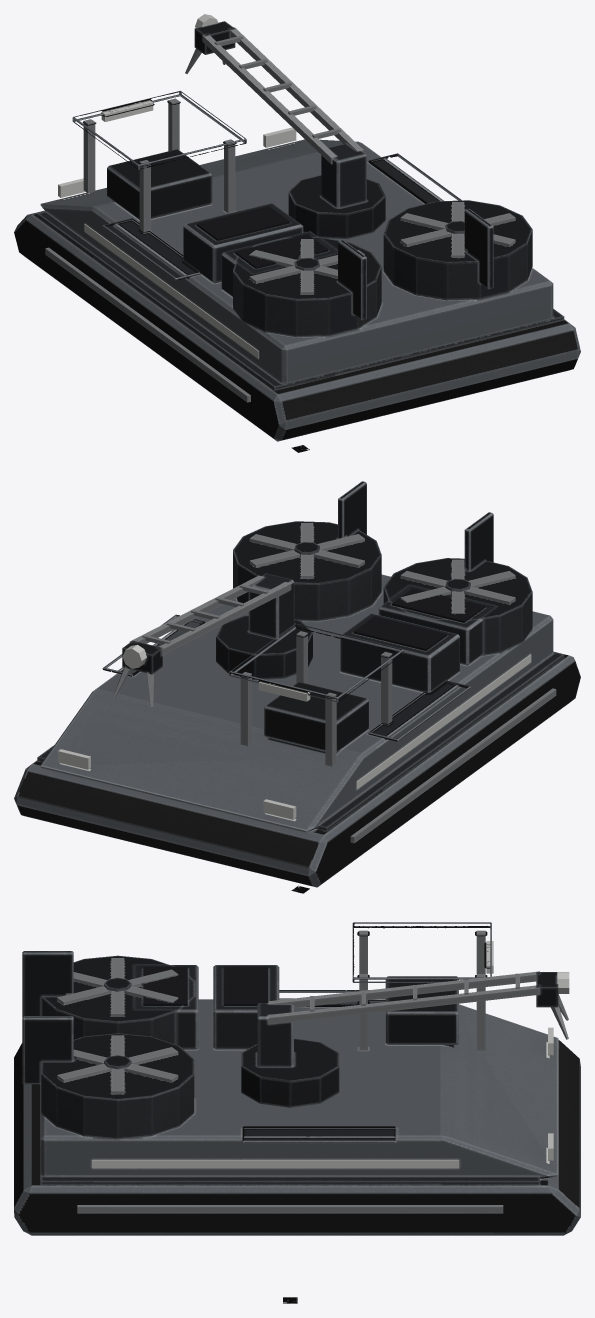
The model's file is chs_drifter.fbx.
3 renders of one model, top to bottom at view 1: azimuth 30°, elevation 25°; view 2: azimuth 150°, elevation 25°; view 3: azimuth 270°, elevation 25°, orthographic. The views are drawn at different scales.
Parts seen in each view (by area): view 1: base_bar, nano_bar, base_glow_running_bar, fan2_bar, fan1_bar, base_glow_head_bar; view 2: base_bar, nano_bar, fan2_bar, fan1_bar, base_glow_running_bar, base_glow_head_bar; view 3: base_bar, nano_bar, base_glow_running_bar, fan2_bar, fan1_bar.
Part boxes in pixels (x1,y1,x2,y2): base_bar: [14, 90, 580, 441]; nano_bar: [185, 21, 385, 238]; base_glow_running_bar: [84, 101, 258, 358]; fan2_bar: [400, 202, 515, 257]; fan1_bar: [249, 239, 364, 294]; base_glow_head_bar: [58, 127, 296, 197]; base_bar: [14, 481, 580, 887]; nano_bar: [113, 573, 312, 706]; fan2_bar: [249, 523, 364, 578]; fan1_bar: [400, 559, 515, 613]; base_glow_running_bar: [258, 654, 531, 789]; base_glow_head_bar: [58, 749, 296, 819]; base_bar: [14, 922, 580, 1235]; nano_bar: [241, 971, 568, 1107]; base_glow_running_bar: [92, 941, 493, 1168]; fan2_bar: [57, 1035, 178, 1094]; fan1_bar: [57, 958, 178, 1016].
Bounding box in the file's own units: 512 × 521 × 772.
Materials: 2 (2 with a texture image).
